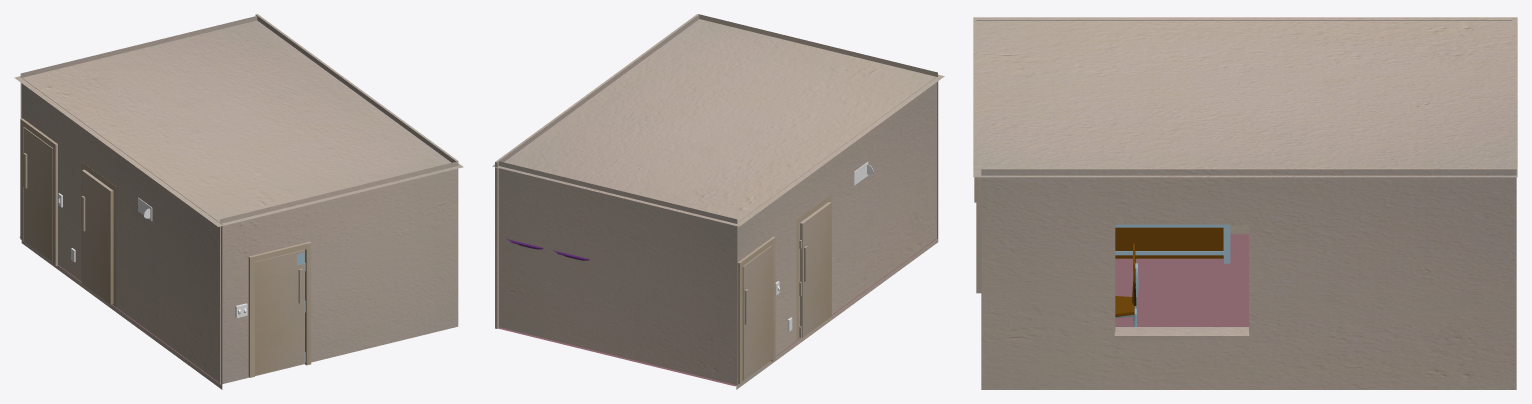
Rendered from room3.glb.
3 renders of one model, left to right at view 1: azimuth 30°, elevation 25°; view 2: azimuth 150°, elevation 25°; view 3: azimuth 270°, elevation 25°, orthographic. The views are drawn at different scales.
Parts seen in each view (by area): view 1: nurbsPlane2, nurbsPlane4, nurbsPlane3, pCube1, pCube6, pCube7, pCube10, pCube12, nurbsPlane1, pCube11; view 2: nurbsPlane2, nurbsPlane1, nurbsPlane3, pCube6, pCube7, pCube12, nurbsPlane4, pCube11, nurbsPlane5; view 3: nurbsPlane2, nurbsPlane5, pCube46, pCube43, pCube51, nurbsPlane3, pCube10.
Part boxes in pixels (x1,y1,x2,y2): nurbsPlane2: (14, 14, 463, 325); nurbsPlane4: (220, 161, 457, 384); nurbsPlane3: (21, 78, 222, 389); pCube1: (255, 250, 305, 375); pCube6: (81, 169, 113, 304); pCube7: (23, 127, 52, 261); pCube10: (248, 241, 311, 377); pCube12: (20, 118, 57, 265); nurbsPlane1: (20, 16, 257, 118); pCube11: (81, 161, 116, 307); nurbsPlane2: (492, 14, 944, 328); nurbsPlane1: (499, 161, 737, 385); nurbsPlane3: (736, 77, 938, 389); pCube6: (799, 202, 831, 337); pCube7: (742, 245, 772, 380); pCube12: (737, 236, 775, 384); nurbsPlane4: (698, 14, 937, 238); pCube11: (796, 194, 831, 340); nurbsPlane5: (497, 238, 936, 386); nurbsPlane2: (973, 17, 1517, 389); nurbsPlane5: (1115, 234, 1248, 326); pCube46: (1115, 227, 1223, 258); pCube43: (1115, 224, 1230, 263); pCube51: (1115, 243, 1138, 326); nurbsPlane3: (976, 20, 1511, 234); pCube10: (976, 177, 981, 293).
Bounding box in the file's own units: 22.73 × 14.75 × 32.15.
Materials: 12 (2 with a texture image).
